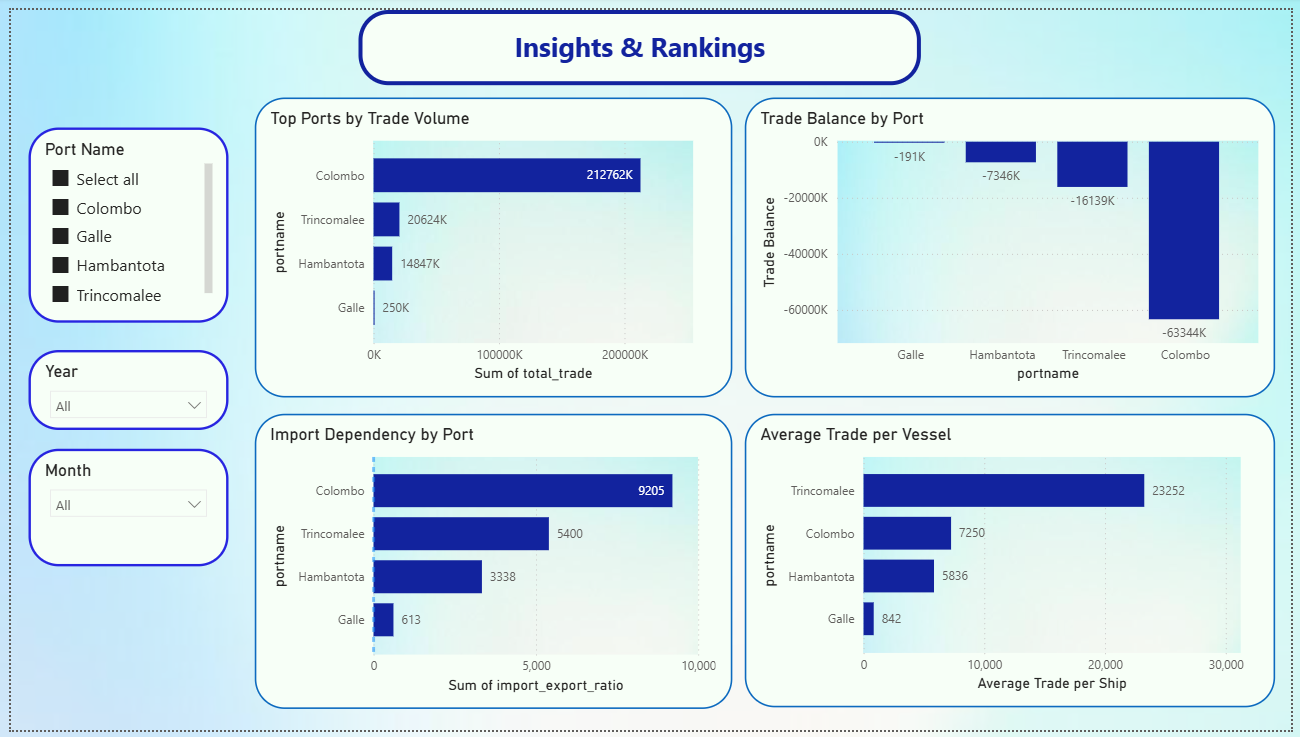

What the dashboard file says about the page in this screenshot:
{"tool":"powerbi","page":{"name":"Page 5- Insights & Rankings ","canvas":[1280,720],"ordinal":4},"visuals":[{"type":"textbox","box":[347.5,0,562.5,75],"z":0},{"type":"clusteredBarChart","title":"Top Ports by Trade Volume","fields":{"Category":["processed_sri_lanka_port_data.portname"],"Y":["Sum(processed_sri_lanka_port_data.total_trade)"]},"box":[243.8,87.5,477.5,300],"z":1000},{"type":"clusteredBarChart","title":"Import Dependency by Port","fields":{"Category":["processed_sri_lanka_port_data.portname"],"Y":["Sum(processed_sri_lanka_port_data.import_export_ratio)"]},"box":[243.8,403.8,477.5,295],"z":2000},{"type":"clusteredColumnChart","title":"Trade Balance by Port","fields":{"Category":["processed_sri_lanka_port_data.portname"],"Y":["processed_sri_lanka_port_data.Trade Balance"]},"box":[733.8,87.5,530,300],"z":3000},{"type":"barChart","title":"Average Trade per Vessel","fields":{"Category":["processed_sri_lanka_port_data.portname"],"Y":["processed_sri_lanka_port_data.Average Trade per Ship"]},"box":[733.8,403.8,530,293.8],"z":4000},{"type":"slicer","title":"Port Name","fields":{"Values":["processed_sri_lanka_port_data.portname"]},"box":[17.5,117.5,200,195],"z":5000},{"type":"slicer","title":"Year","fields":{"Values":["processed_sri_lanka_port_data.year"]},"box":[17.5,340,200,80],"z":6000},{"type":"slicer","title":"Month","fields":{"Values":["processed_sri_lanka_port_data.month"]},"box":[17.5,438.8,200,117.5],"z":7000}]}

Visuals, with their boxes in screenshot pixels (x1, y1, x2, y2), scaled from the page's 1280x720 canvas onto the 1300x737 screenshot:
textbox: l=353, t=0, r=924, b=77
"Top Ports by Trade Volume" clusteredBarChart: l=248, t=90, r=733, b=397
"Import Dependency by Port" clusteredBarChart: l=248, t=413, r=733, b=715
"Trade Balance by Port" clusteredColumnChart: l=745, t=90, r=1284, b=397
"Average Trade per Vessel" barChart: l=745, t=413, r=1284, b=714
"Port Name" slicer: l=18, t=120, r=221, b=320
"Year" slicer: l=18, t=348, r=221, b=430
"Month" slicer: l=18, t=449, r=221, b=569
